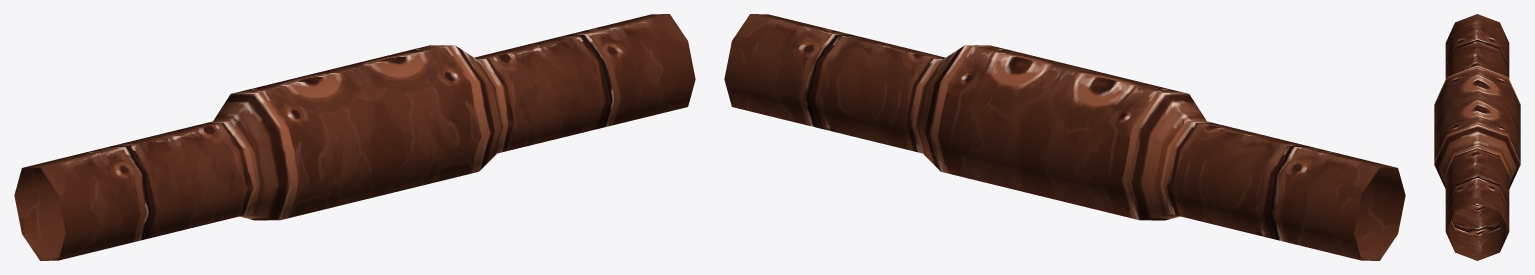
Rendered from metalPipe_01.fbx.
3 views of the same model, side by side, from view 1: azimuth 30°, elevation 25°; view 2: azimuth 150°, elevation 25°; view 3: azimuth 270°, elevation 25° (orthographic). The views are drawn at different scales.
Visible parts, largest first — view 1: metalPipe_01; view 2: metalPipe_01; view 3: metalPipe_01.
Boxes of the visible parts, x1,y1,x2,y2 form: metalPipe_01: (14,14,695,260); metalPipe_01: (724,14,1405,260); metalPipe_01: (1434,14,1520,260).
Bounding box in the file's own units: 6.01 × 1.16 × 1.16.
